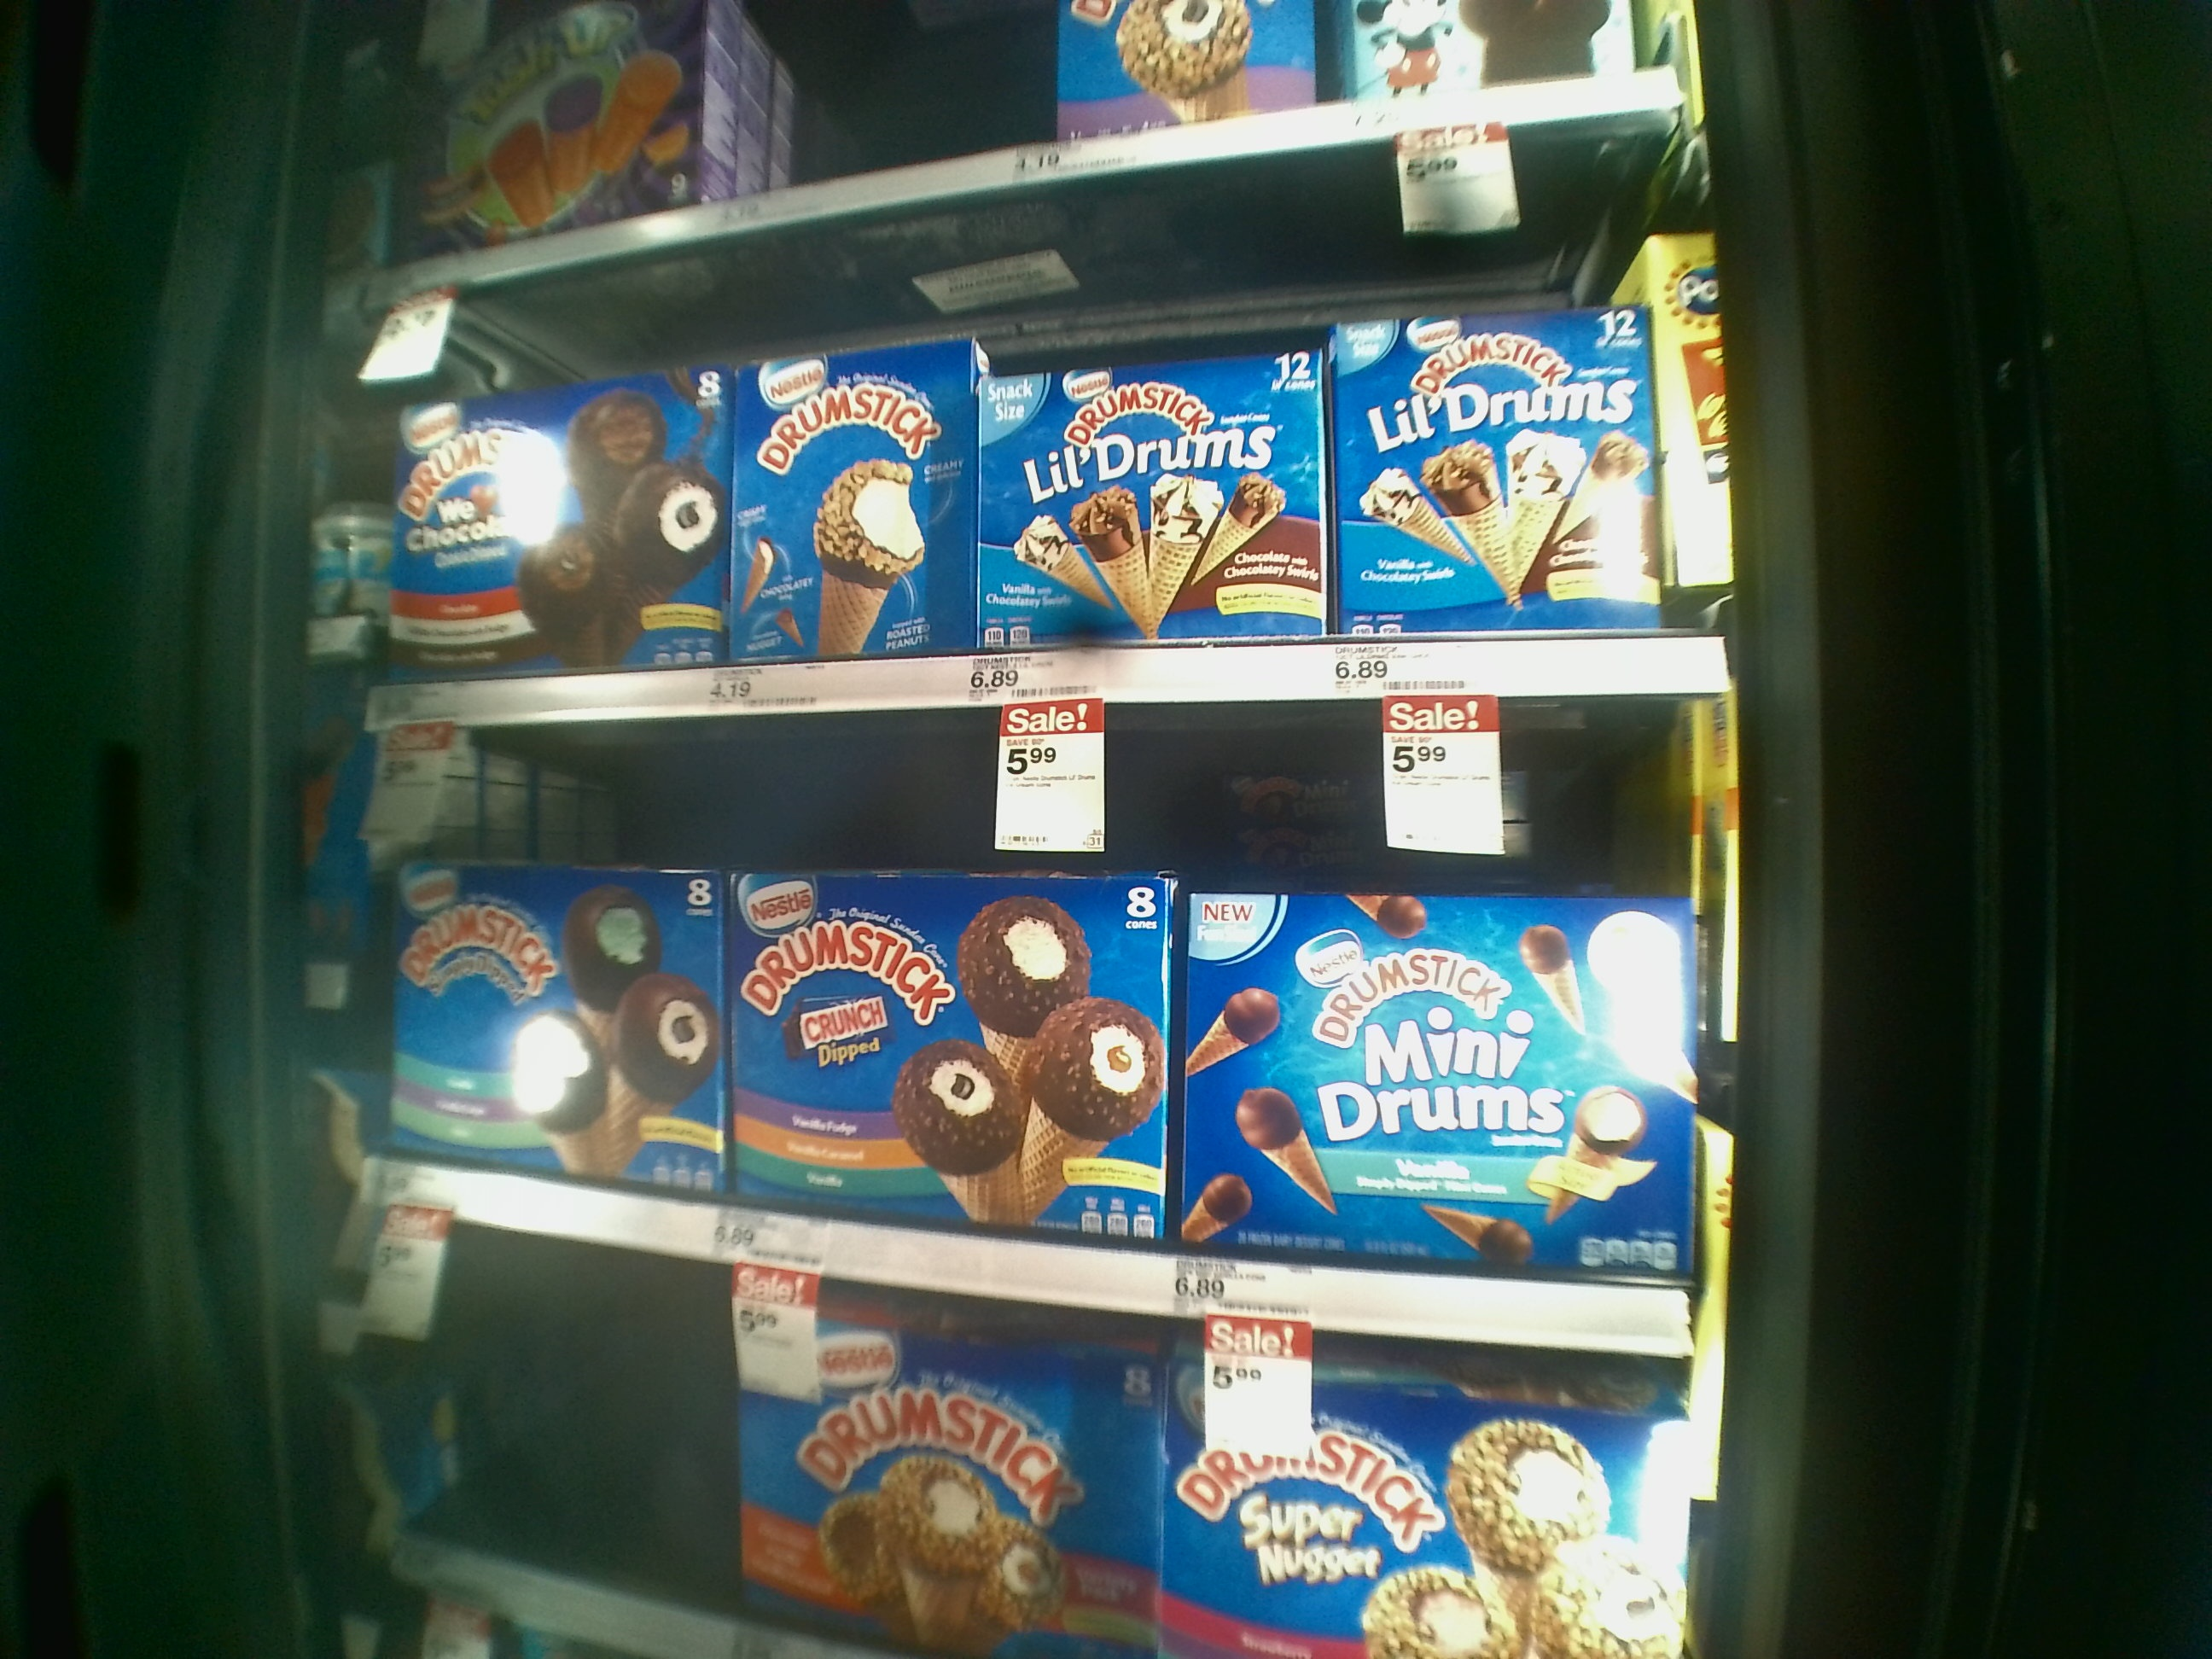shelf: (369, 688, 1735, 1361), (371, 125, 1742, 727)
